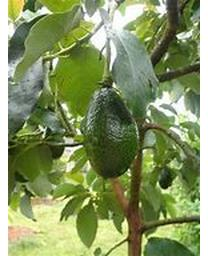avocado: (82, 83, 140, 174)
